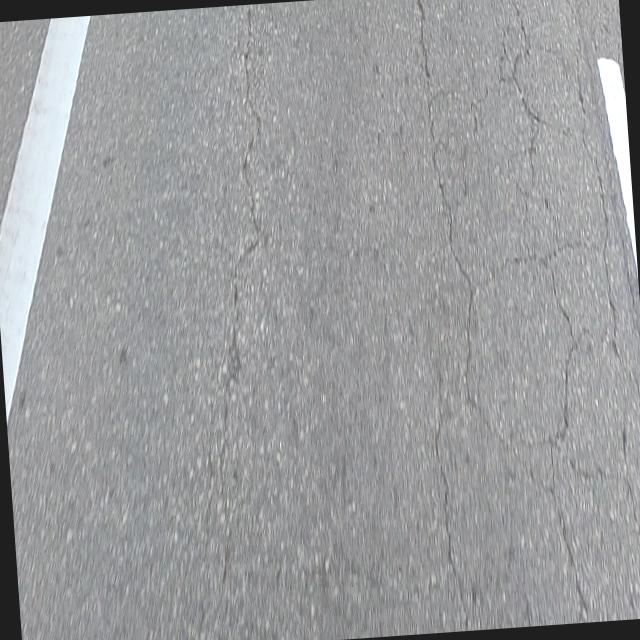Retak-Buaya: (412, 0, 640, 629)
Retak-Memanjang: (216, 4, 263, 586)
